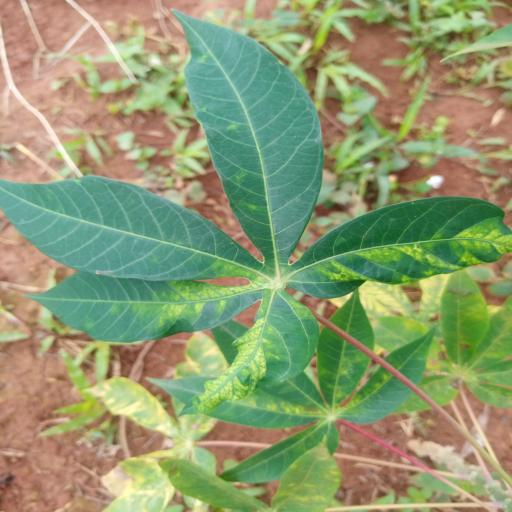Cassava_Mosaic: (6, 5, 512, 413)
